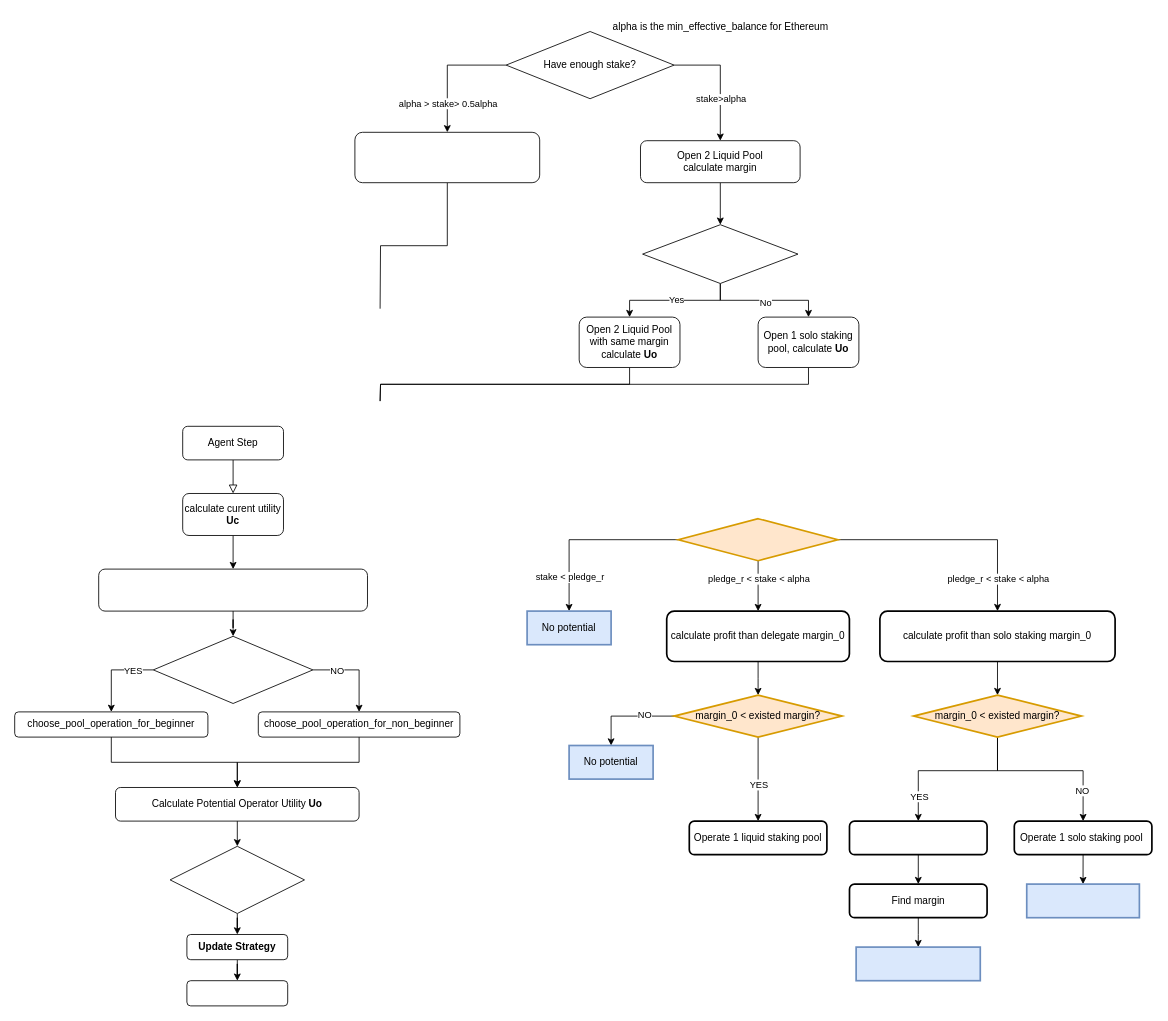
Some shapes in this 1168 by 1021 pixel diagram are drawn without their labels. Each missing label, with the box of its shape:
Determine potential delegation move, calculate utility Ud: (98, 568, 368, 611)
Does agent have operation experience? n>1?: (152, 635, 313, 704)
Execute Strategy: (186, 980, 288, 1006)
Higest Utiliy? Uc,Uo,Ud?: (169, 845, 304, 914)
how many stake?: (677, 517, 838, 561)
Is this margin lower than the biggest margin exsisted in rank?: (642, 224, 798, 284)
Open 1 Liquid pool Calculate Margin Calculate Expected Operator Utility Uo: (354, 131, 540, 183)
Operate 2 liquid staking pool: (848, 820, 988, 855)
Return 1*pool(is_private=True): (1025, 883, 1140, 918)
Return 2*pool with margin: (855, 946, 981, 981)
